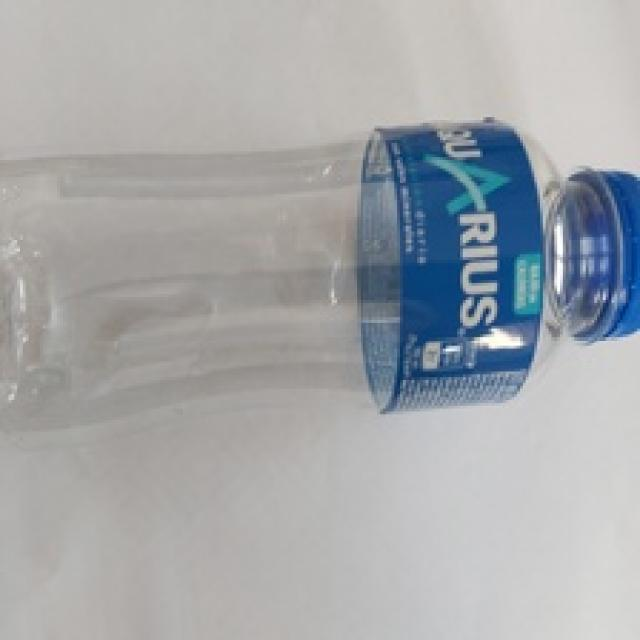Plastic: (0, 115, 640, 432)
